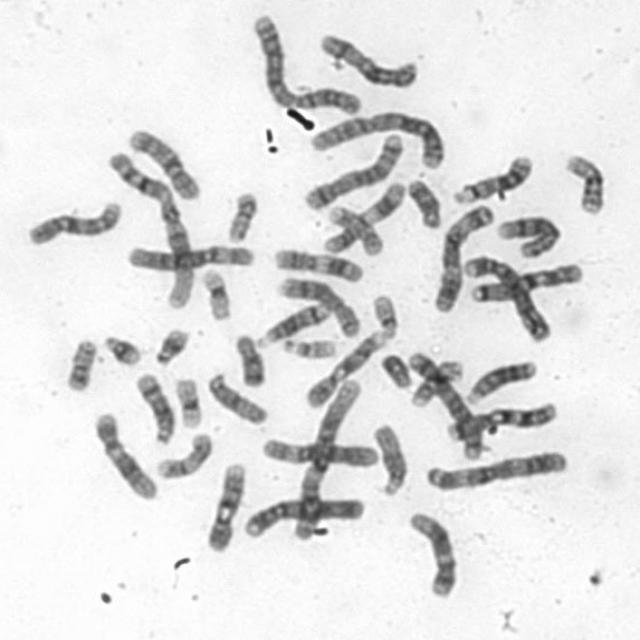A1: (102, 146, 198, 312), (290, 375, 366, 542)
A2: (248, 10, 365, 116), (305, 107, 448, 170)
A3: (427, 198, 496, 316), (421, 446, 572, 494)
B4: (459, 248, 553, 343), (238, 491, 366, 540)
B5: (403, 346, 486, 462), (298, 126, 407, 212)
C10: (123, 121, 204, 202), (22, 197, 123, 248)
C11: (316, 175, 409, 256), (268, 243, 366, 284)
C12: (88, 406, 160, 502), (404, 507, 462, 601)
C6: (120, 237, 258, 274), (256, 431, 384, 469)
C7: (467, 257, 586, 305), (441, 398, 560, 444)
C8: (270, 269, 363, 339), (493, 211, 564, 260)
C9: (300, 327, 388, 409), (202, 458, 249, 554)
D13: (446, 149, 535, 206), (462, 354, 540, 405)
D14: (252, 299, 332, 349), (130, 368, 178, 444)
D15: (200, 365, 271, 428), (367, 416, 411, 499)
E16: (557, 147, 608, 216), (409, 358, 466, 410)
E17: (323, 202, 383, 256), (152, 428, 215, 479)
E18: (229, 327, 269, 390), (402, 172, 445, 230)
F19: (197, 262, 236, 321), (171, 374, 205, 430)
F20: (62, 333, 100, 394), (224, 188, 259, 244)
G21: (149, 321, 193, 368), (97, 328, 146, 368)
G22: (367, 288, 401, 341), (278, 332, 340, 361)
X: (314, 27, 423, 91)
Y: (376, 348, 414, 389)
